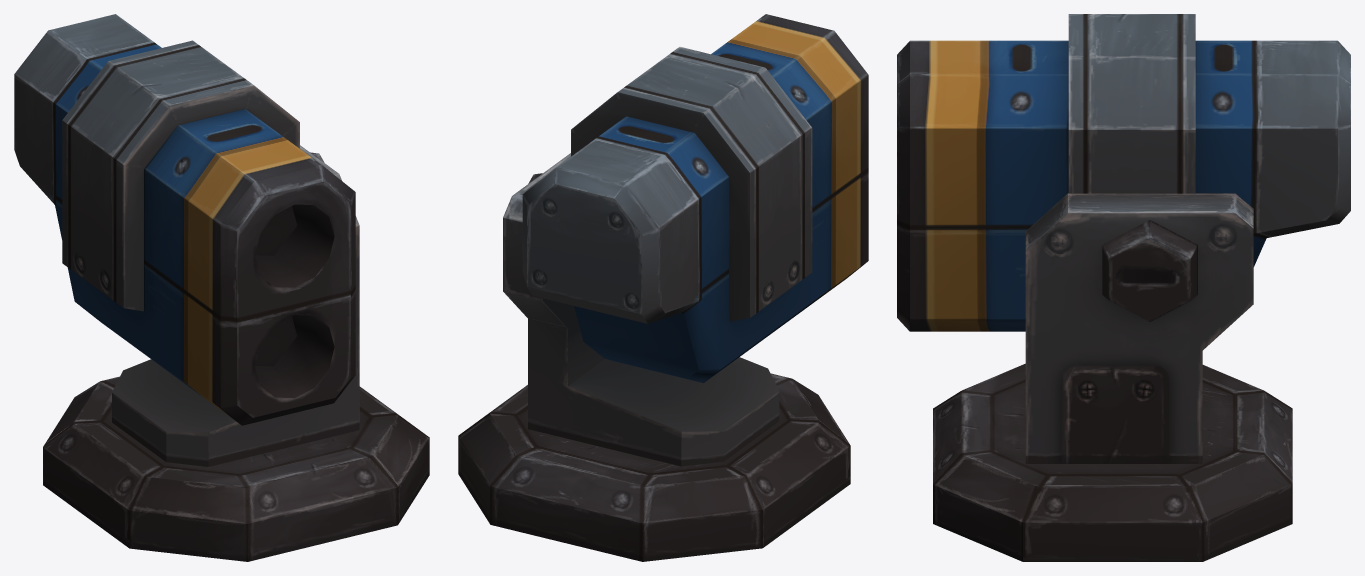
The model's file is Tow_Rocket2_2.fbx.
The picture shows the model from 3 angles, left to right: view 1: azimuth 30°, elevation 25°; view 2: azimuth 150°, elevation 25°; view 3: azimuth 270°, elevation 25°; orthographic projection. The views are drawn at different scales.
Visible parts, largest first — view 1: Barrel, Base; view 2: Barrel, Base; view 3: Barrel, Base.
Boxes of the visible parts, x1,y1,x2,y2 form: Barrel: (14, 14, 355, 425); Base: (43, 145, 429, 561); Barrel: (522, 14, 868, 382); Base: (458, 153, 850, 561); Barrel: (897, 14, 1350, 331); Base: (933, 193, 1292, 561).
Size of the model in its own units: 1.02 by 1.33 by 1.28.
1 material, 1 textured.
